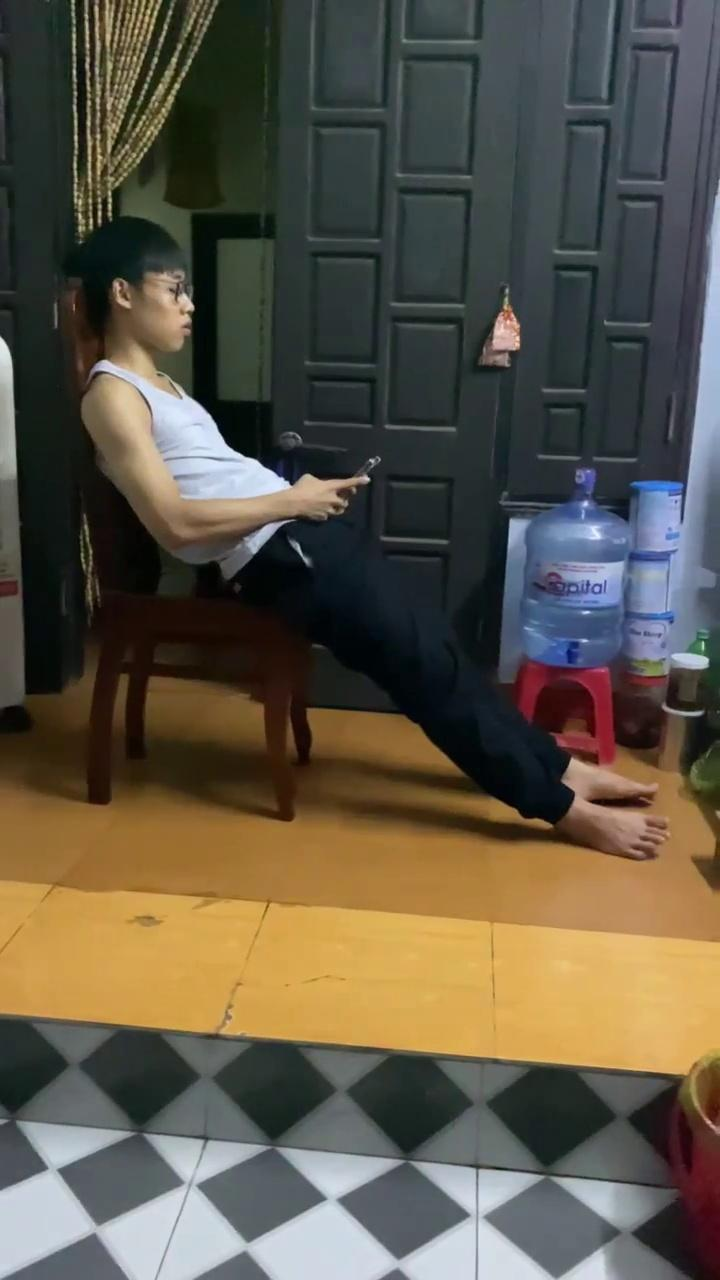BadPosture: (74, 217, 634, 851)
